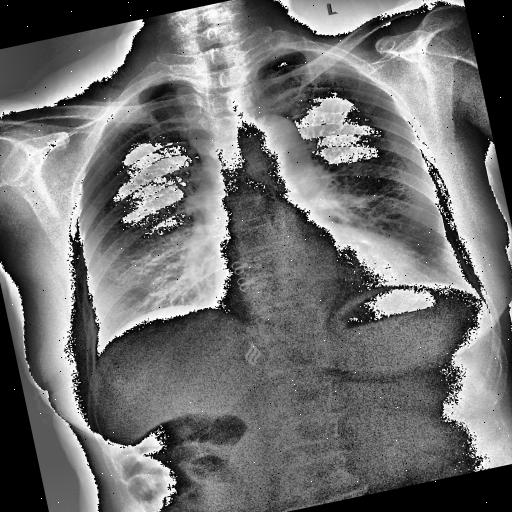0- Aortic enlargement: (234, 107, 309, 178), (251, 106, 313, 176), (252, 110, 306, 164)
3- Cardiomegaly: (193, 214, 430, 336), (198, 215, 430, 324), (202, 220, 426, 323)
